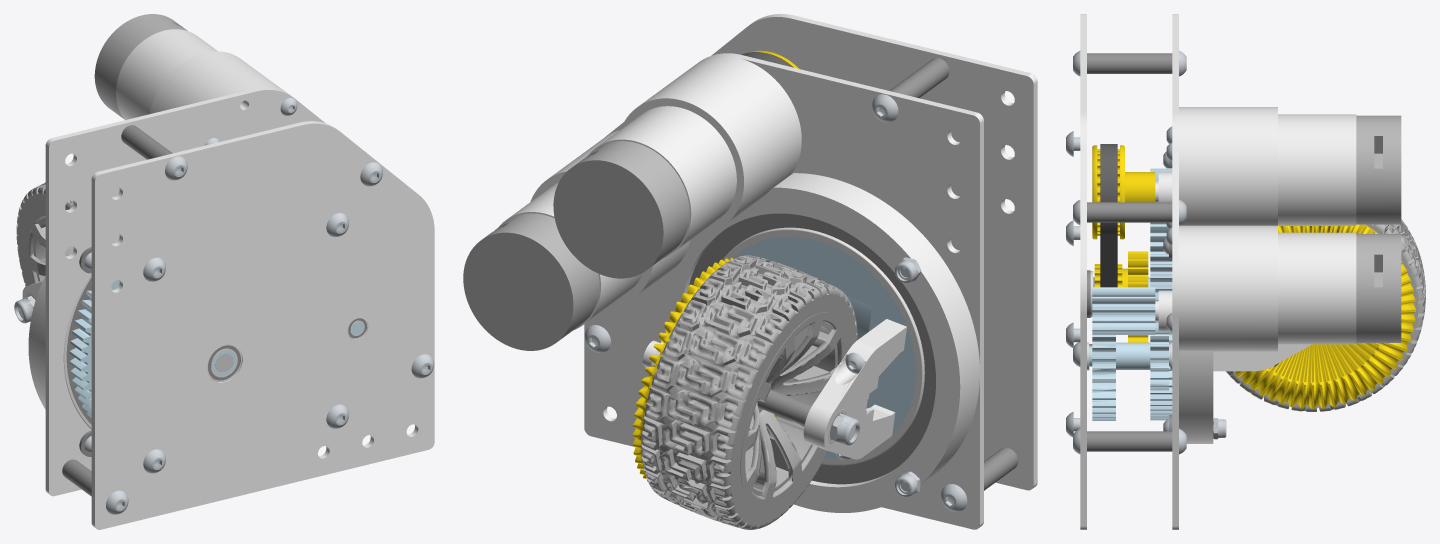
Rendered from swerve.glb.
3 views of the same model, side by side, from view 1: azimuth 30°, elevation 25°; view 2: azimuth 150°, elevation 25°; view 3: azimuth 270°, elevation 25° (orthographic). The views are drawn at different scales.
Parts seen in each view (by area): view 1: part_073, part_072, part_077, part_079, part_006, part_070, part_071, part_007, part_019, part_018, part_002; view 2: part_006, part_072, part_073, part_071, part_077, part_079, part_080, part_007, part_070, part_074, part_078, part_067 (+4 smaller); view 3: part_078, part_077, part_067, part_079, part_080, part_069, part_072, part_073, part_006, part_071, part_068, part_070 (+8 smaller).
Boxes of the visible parts, x1,y1,x2,y2 form: part_073: (91, 121, 434, 529); part_072: (45, 87, 325, 496); part_077: (116, 29, 286, 119); part_079: (94, 14, 187, 118); part_006: (16, 182, 73, 286); part_070: (69, 280, 236, 417); part_071: (28, 246, 73, 409); part_007: (63, 273, 91, 429); part_019: (121, 125, 172, 159); part_018: (62, 459, 91, 496); part_002: (207, 344, 241, 381); part_006: (641, 255, 857, 529); part_072: (584, 53, 983, 529); part_073: (711, 14, 1037, 490); part_071: (657, 173, 979, 512); part_077: (589, 56, 801, 257); part_079: (553, 141, 689, 278); part_080: (463, 213, 599, 350); part_007: (689, 213, 935, 484); part_070: (734, 236, 915, 458); part_074: (803, 319, 906, 459); part_078: (498, 130, 690, 330); part_067: (632, 257, 777, 481); part_078: (1155, 225, 1356, 351); part_077: (1155, 107, 1356, 225); part_067: (1235, 224, 1415, 409); part_079: (1356, 115, 1401, 224); part_080: (1356, 234, 1401, 342); part_069: (1089, 322, 1170, 420); part_072: (1172, 14, 1178, 529); part_073: (1080, 14, 1086, 529); part_006: (1226, 219, 1425, 411); part_071: (1179, 351, 1213, 443); part_068: (1092, 287, 1155, 334); part_070: (1148, 168, 1172, 420).
Size of the model in its own units: 0.115 by 0.115 by 0.1057.
